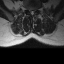CCS_severe_stenosis: (31, 8, 33, 16)
LFS_stenosis: (35, 7, 36, 12)
LLS_normal: (33, 8, 34, 14)
RFS_severe_stenosis: (27, 7, 29, 12)
RLS_normal: (29, 8, 31, 14)
